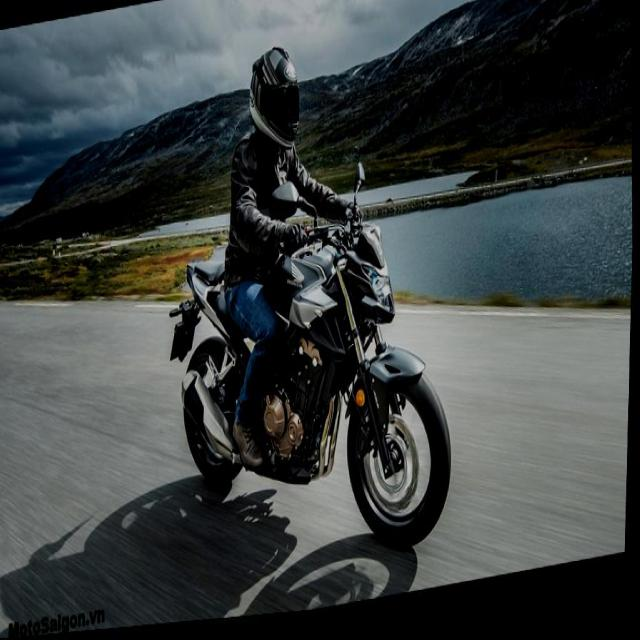CB500F: (169, 216, 462, 599)
